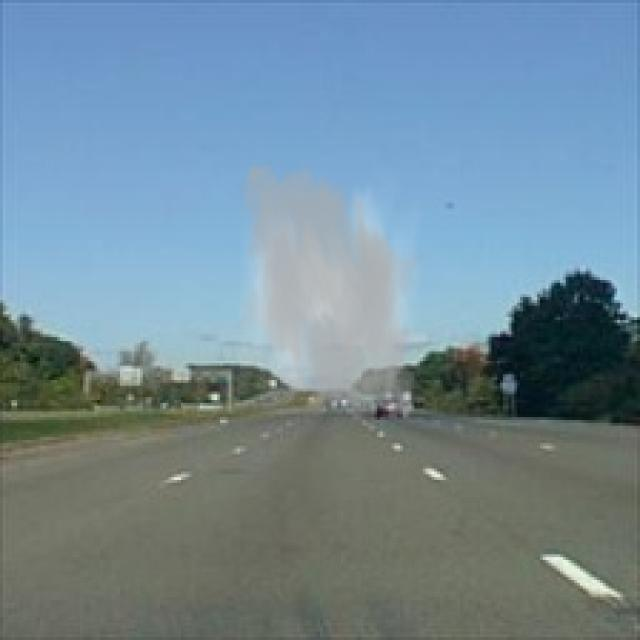smoke: (229, 152, 434, 432)
